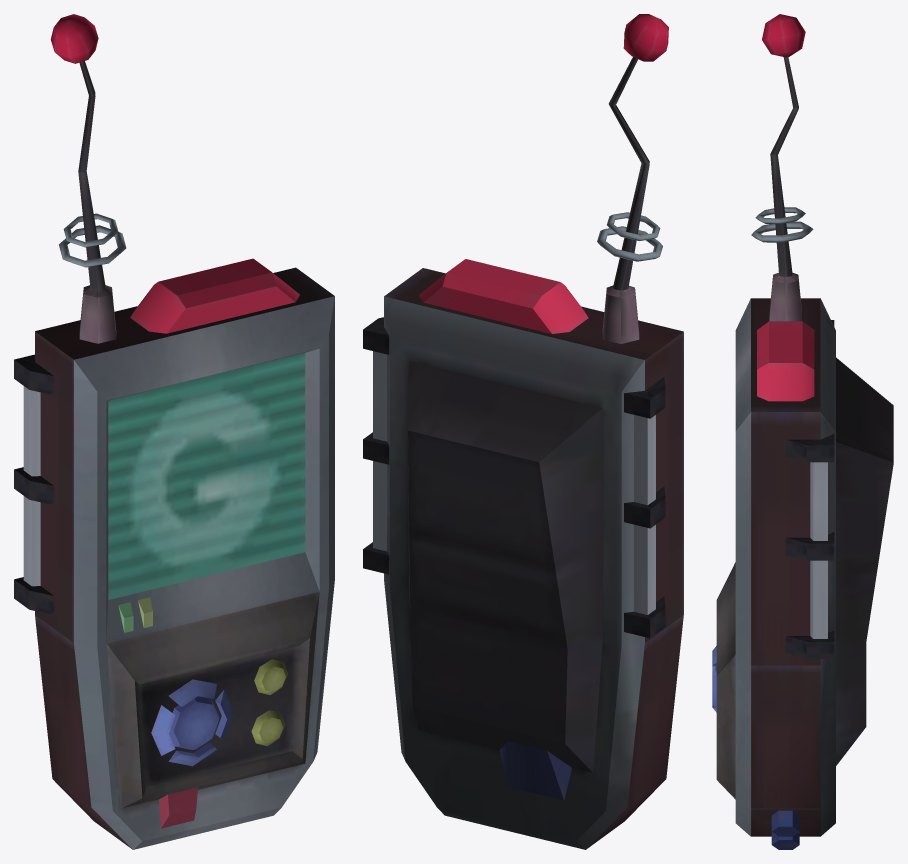
File: GPDA.obj
3 views of the same model, side by side, from view 1: azimuth 30°, elevation 25°; view 2: azimuth 150°, elevation 25°; view 3: azimuth 270°, elevation 25° (orthographic). The views are drawn at different scales.
Parts seen in each view (by area): view 1: Object02; view 2: Object02; view 3: Object02.
Boxes of the visible parts, x1,y1,x2,y2 form: Object02: (14,14,334,849); Object02: (363,14,683,849); Object02: (712,14,893,849).
Size of the model in its own units: 10.57 by 29.32 by 6.47.
1 material, 1 textured.
